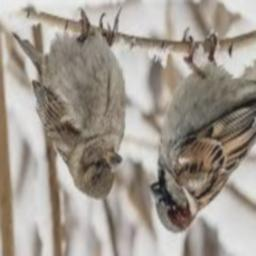Sparrow: (11, 6, 126, 200), (150, 28, 256, 234)
